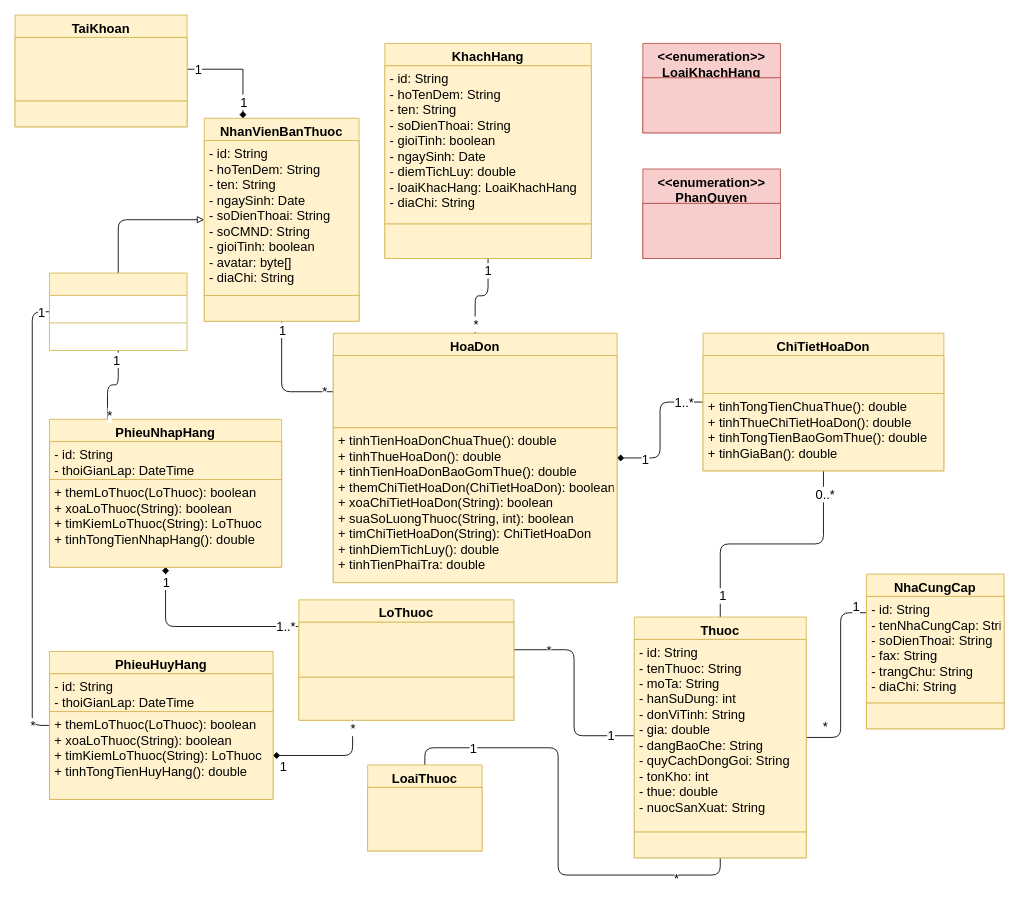
This 1030x900 diagram has some shape labels left out. The centre of each missing label's shape, as x and y in pixels:
+ tinhNgayHetHan(): Date + tinhTongTienLoThuoc(): double: point (406, 698)
- id: String - tenLoai: String - moTa: String: point (424, 818)
- id: String - thoiGianLap: DateTime - diemSuDung: double - /tienPhaiTra: double: point (474, 391)
- ngaySanXuat: Date - soLuong: int: point (406, 649)
- soLuong: int - /giaBan: double: point (823, 374)
- tenDangNhap: String - matKhau: String - phanQuyen: PhanQuyen: point (100, 69)
MEMBER VIP SUPERVIP: point (711, 105)
NHANVIEN QUANLY: point (711, 230)
QuanLy: point (118, 311)
